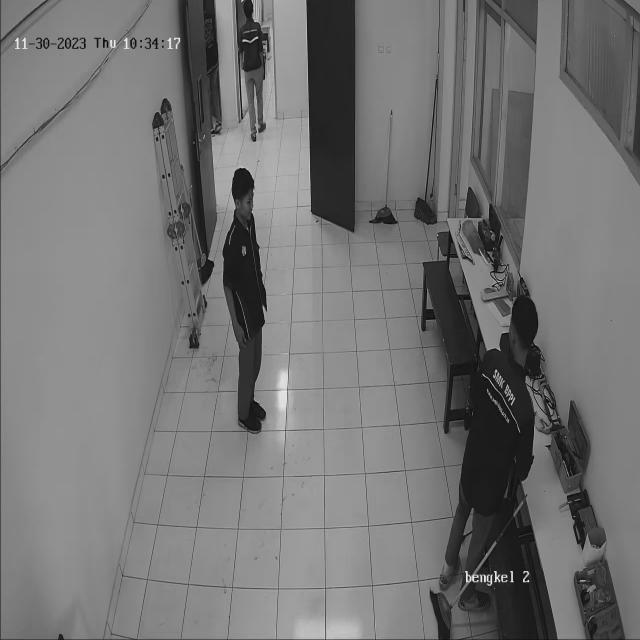person: (220, 149, 270, 430), (232, 0, 276, 141)
